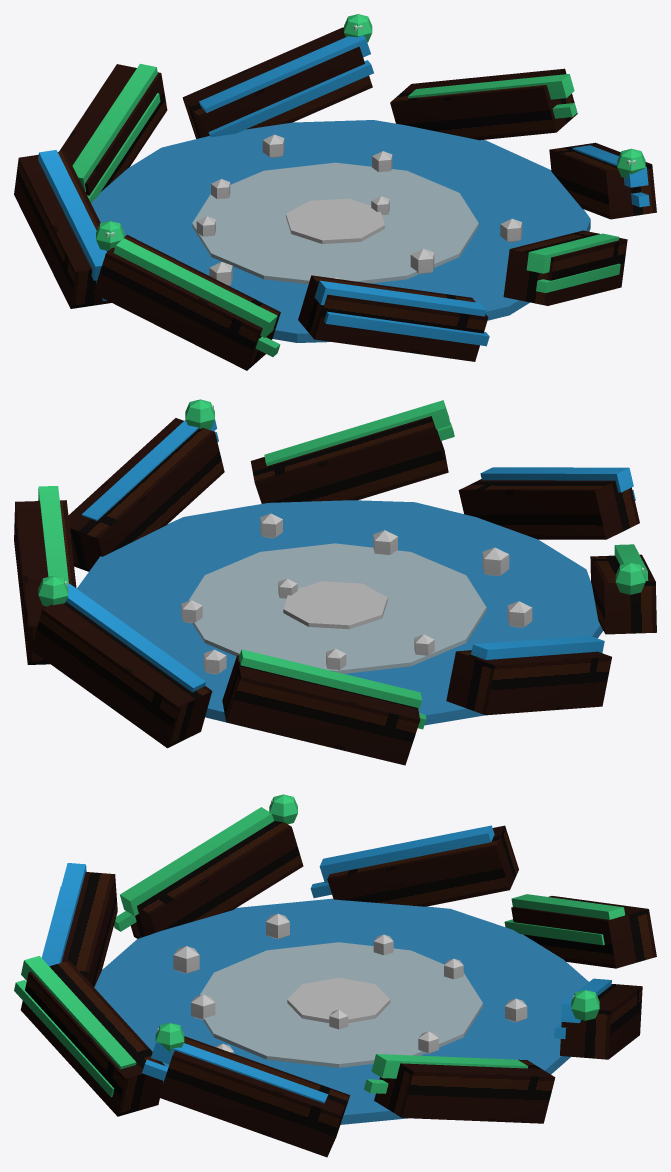
The model's file is heart_spring.glb.
3 views of the same model, one above another, from view 1: azimuth 30°, elevation 25°; view 2: azimuth 150°, elevation 25°; view 3: azimuth 270°, elevation 25° (orthographic). The views are drawn at different scales.
Visible parts, largest first — view 1: heart_spring; view 2: heart_spring; view 3: heart_spring.
Boxes of the visible parts, <box> form: heart_spring: <box>14,14,656,370</box>; heart_spring: <box>14,399,656,765</box>; heart_spring: <box>14,794,656,1157</box>.
Bounding box in the file's own units: 3.09 × 0.5949 × 3.12.
Materials: 2 (1 with a texture image).
